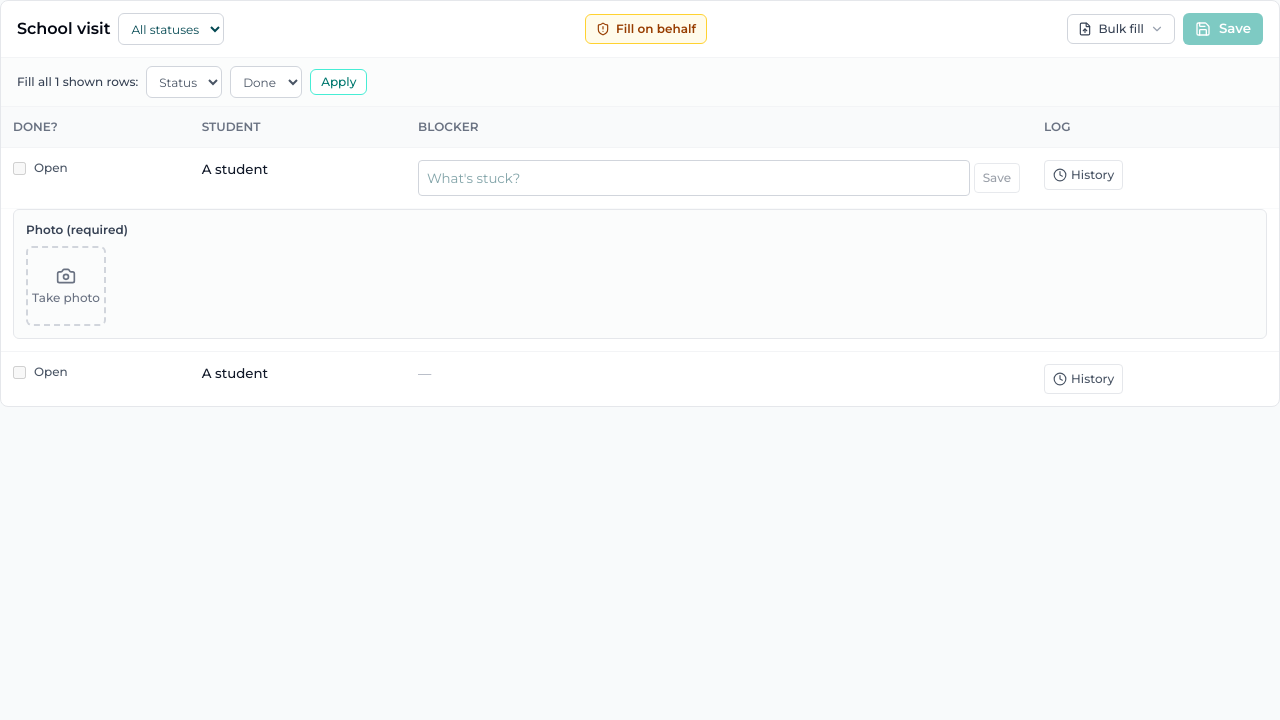
an override session › still enforces the viewer's own completion gates while it waives the doer's
The image size is (1280, 720).
Click the button "Fill on behalf". click: click(646, 29)
box: [585,14,707,44]
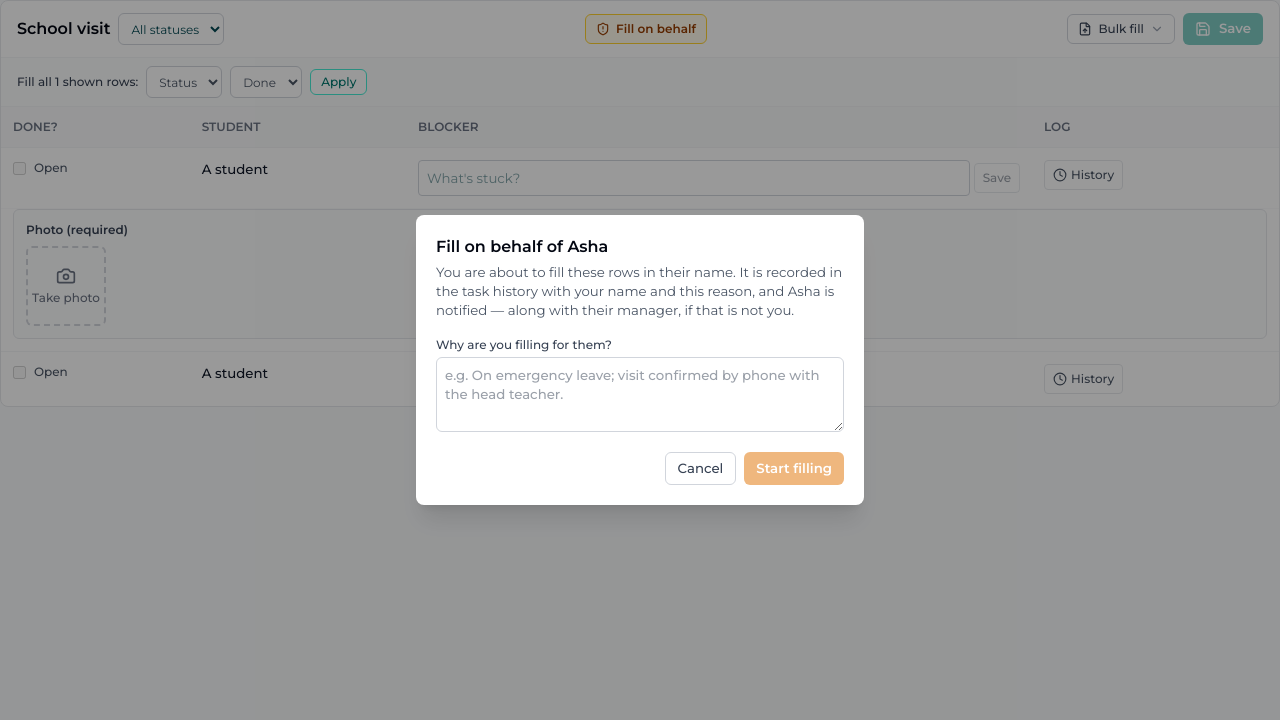
Replace the text in the text box labelled "Why are you filling for them?" with "On leave; visit confirmed by phone.". click: (640, 394)
box: [436,356,844,432]
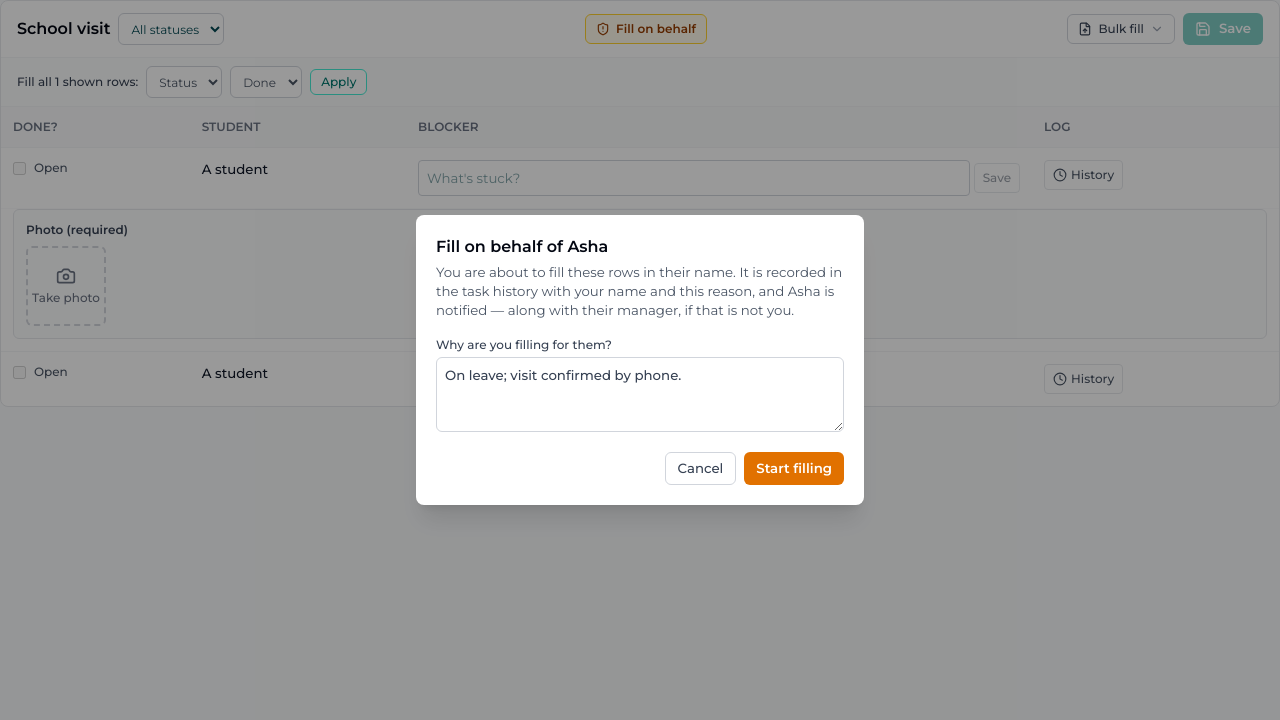
Click the button "Start filling". click: click(794, 468)
box: [744,452,844,484]
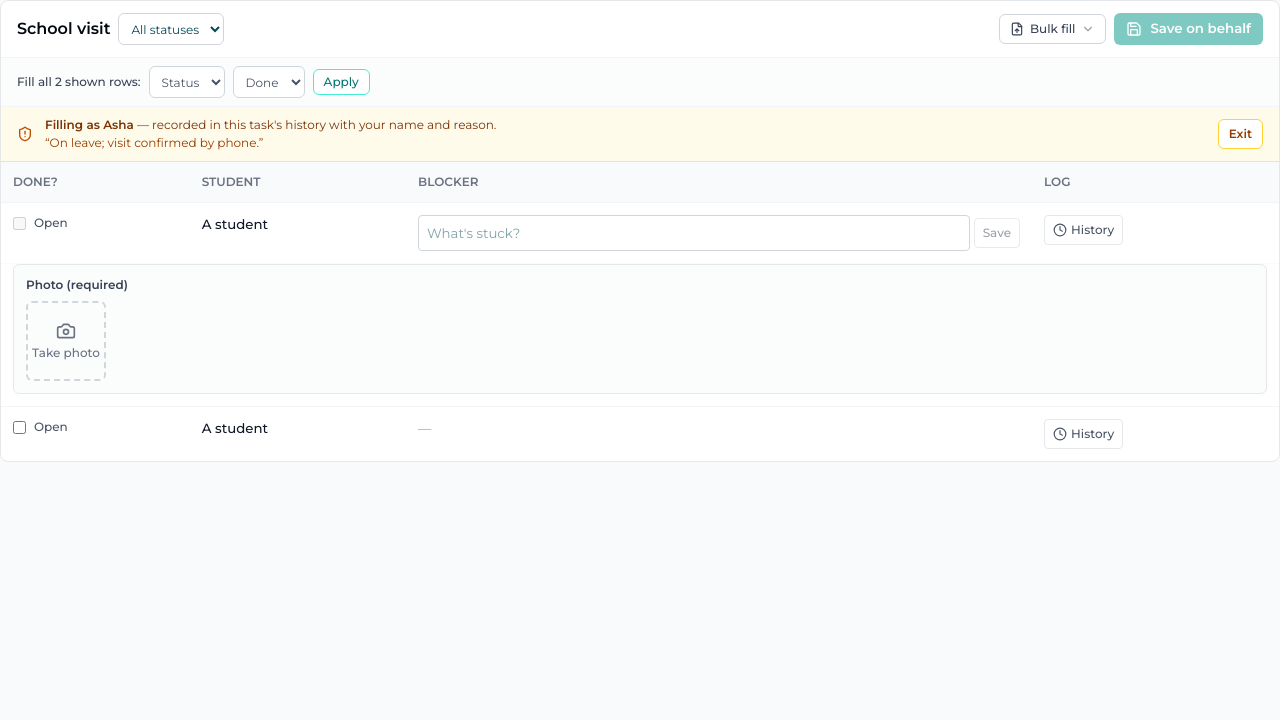
Expected: the text "recorded in this task's history" is shown, [134,117,496,132]
